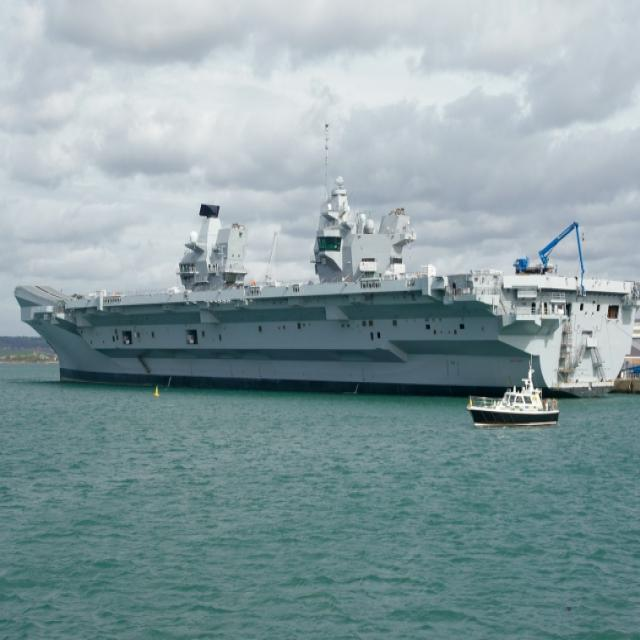Portanaves: (9, 155, 640, 402)
